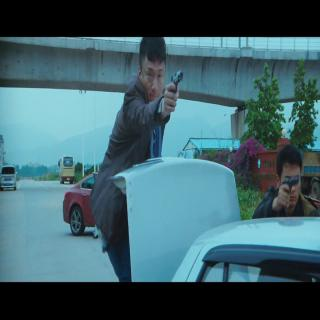gun: (165, 69, 184, 114), (278, 175, 300, 207)
